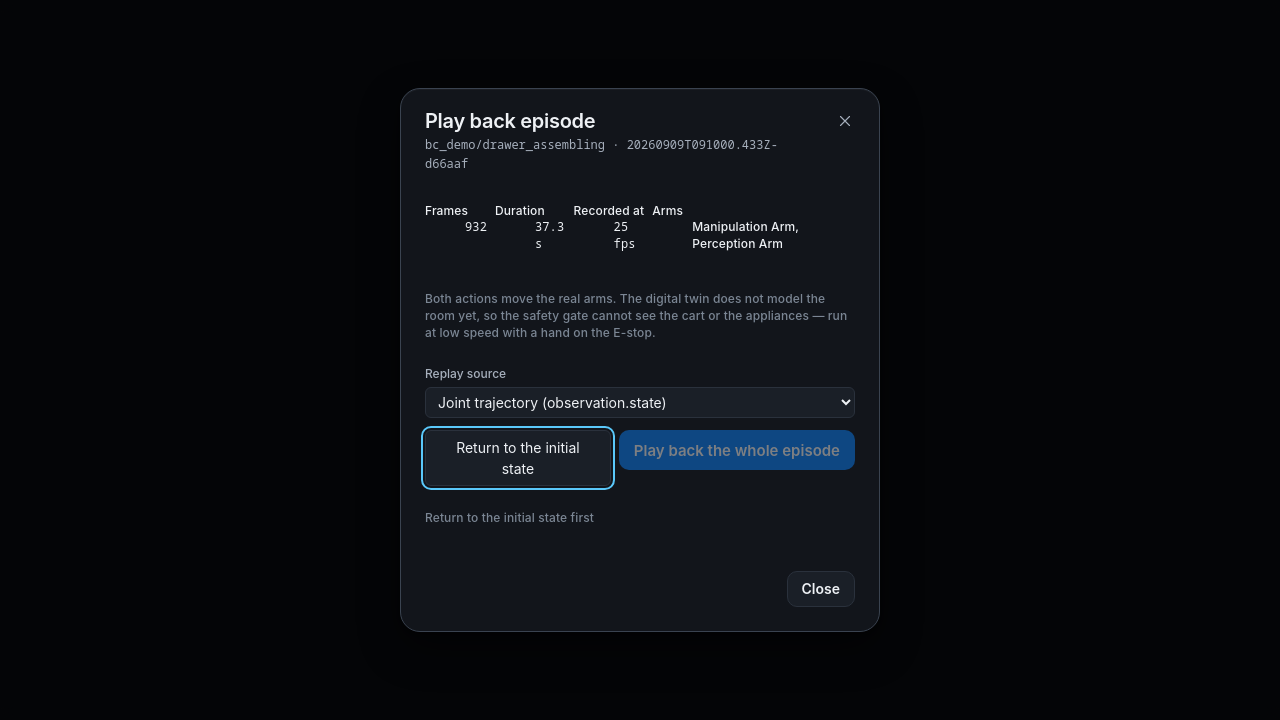
Test case: PlaybackDialog › a transport failure leaves Playback disabled too
Check: the element with test id "playback-meta" is shown, box [425,200,855,255]
Click the button with test id "playback-goto-initial" at point(518, 458), box [425,430,611,486]
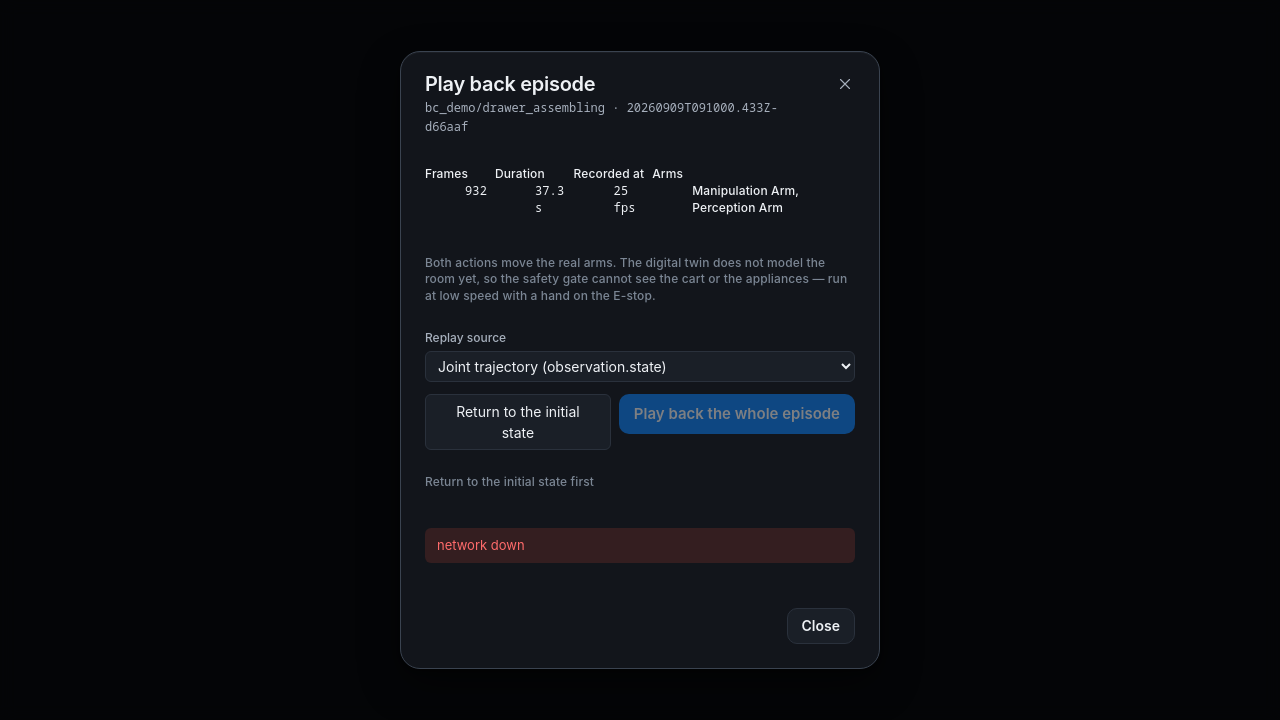
Check: the button with test id "playback-play" is disabled, box [619,394,855,434]
Check: the message "network down" is shown, box [425,528,855,562]
Check: the message with test id "playback-outcome" reads "network down", box [437,537,525,553]
